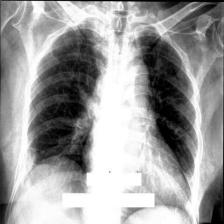tuberculosis: (18, 11, 204, 206)
